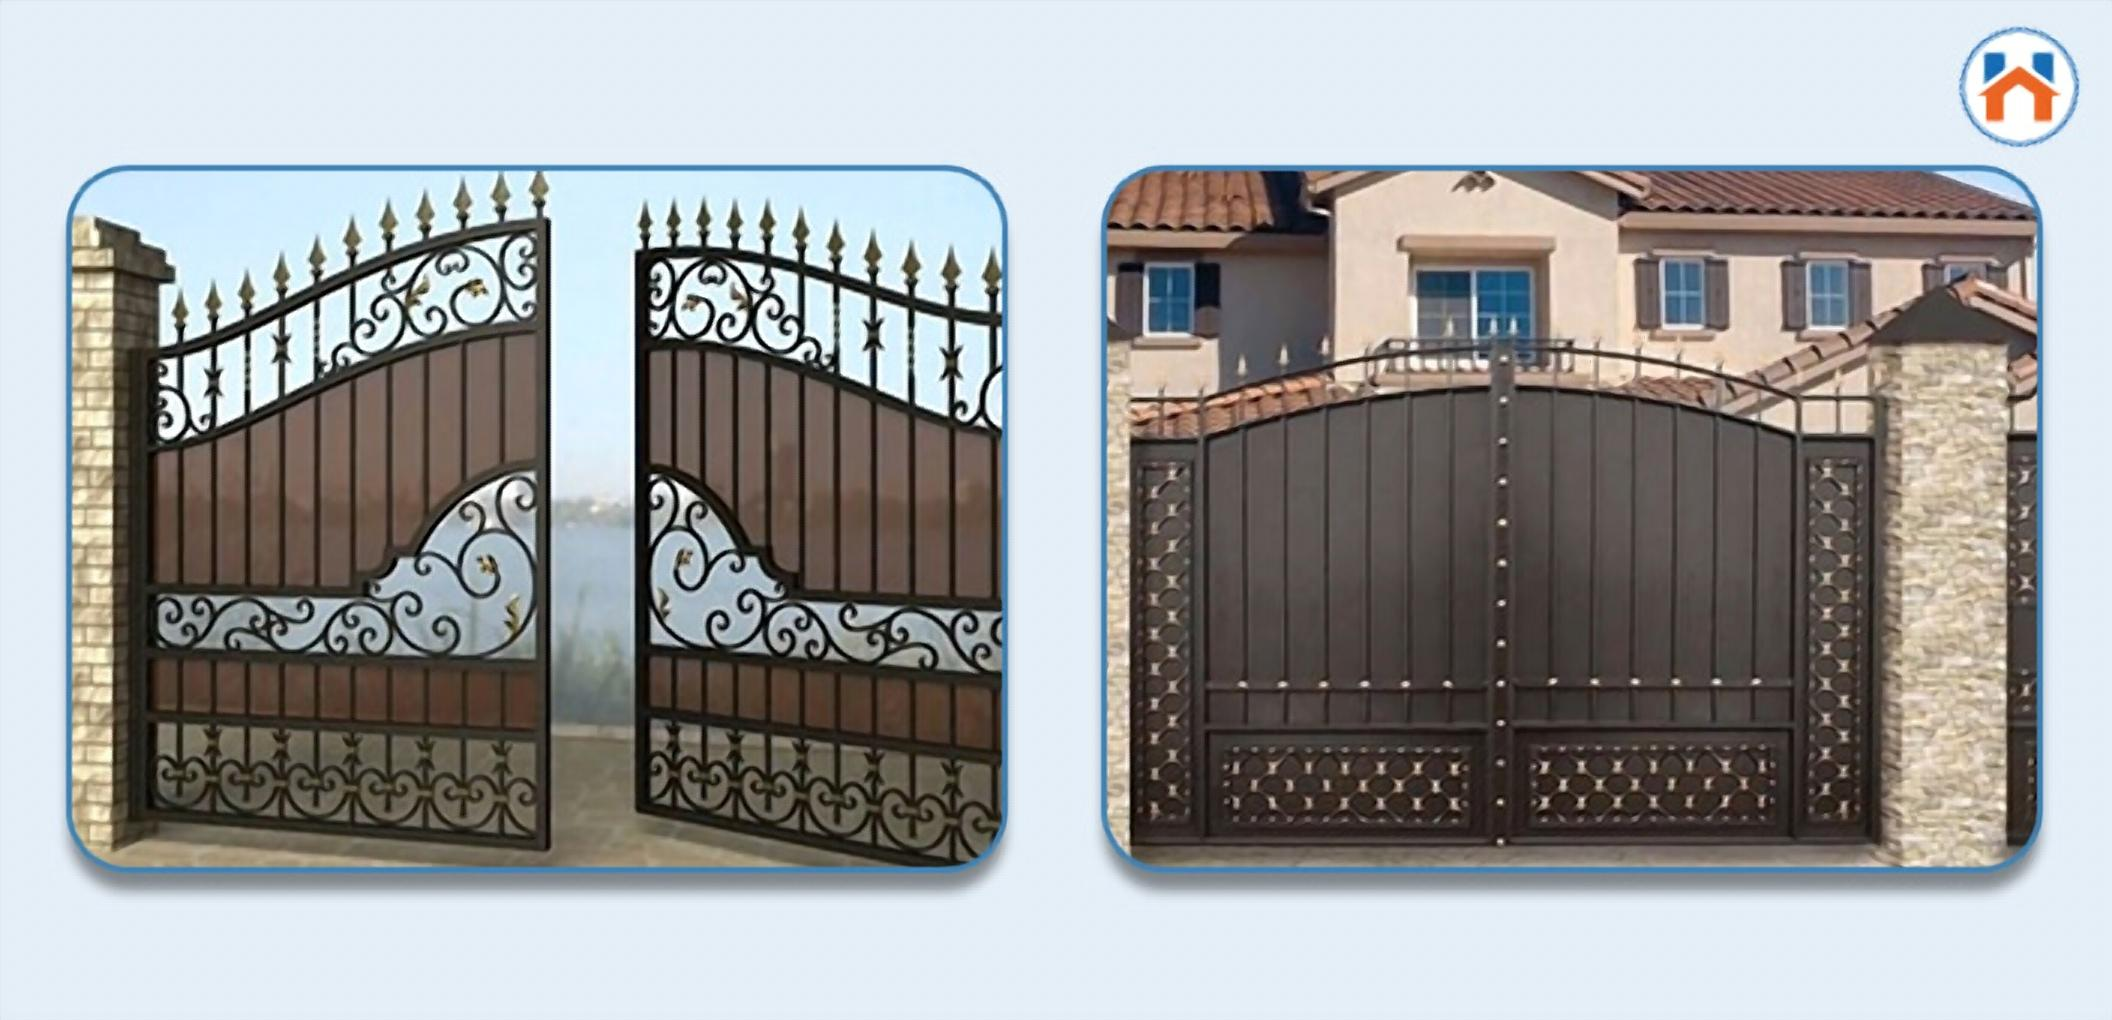Building: (1094, 164, 2040, 671)
Gate: (124, 164, 1002, 868), (1126, 316, 1884, 853)
Window-without-grill: (1407, 266, 1536, 365), (1120, 262, 1226, 341), (1631, 253, 1728, 332), (1780, 259, 1872, 329), (1919, 259, 2007, 312)
